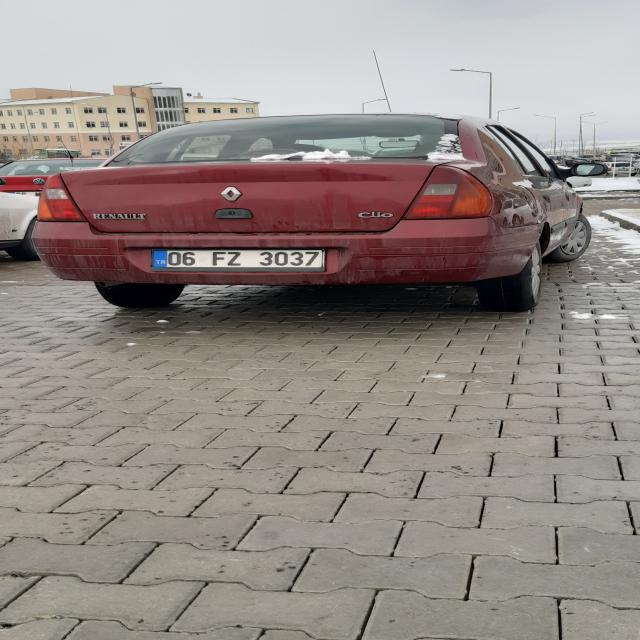plate: (152, 250, 324, 268)
